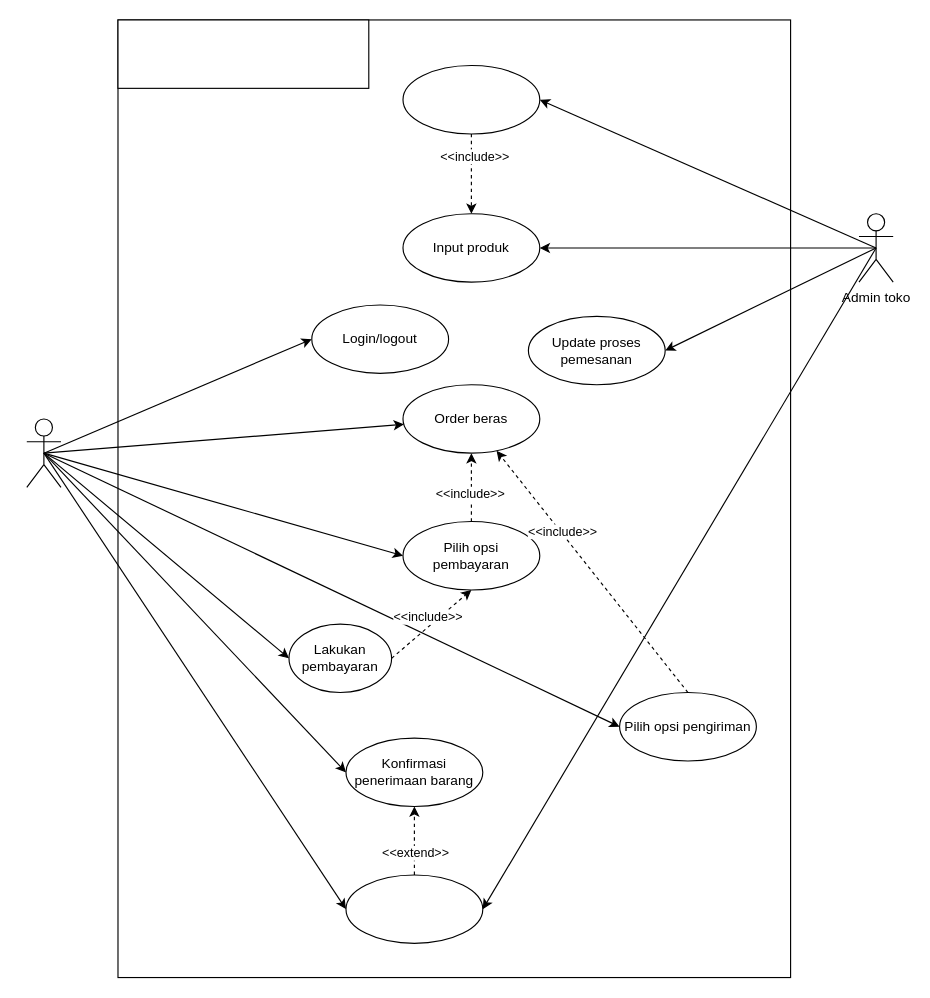
This 930x998 diagram has some shape labels left out. The box of each missing label's shape, as (x1, y1, x2, y2) in pixels:
Pembeli: (26, 418, 61, 487)
Pembelian Beras secara Online: (117, 19, 369, 88)
Retur beras: (345, 874, 483, 943)
update stok: (402, 64, 540, 134)
